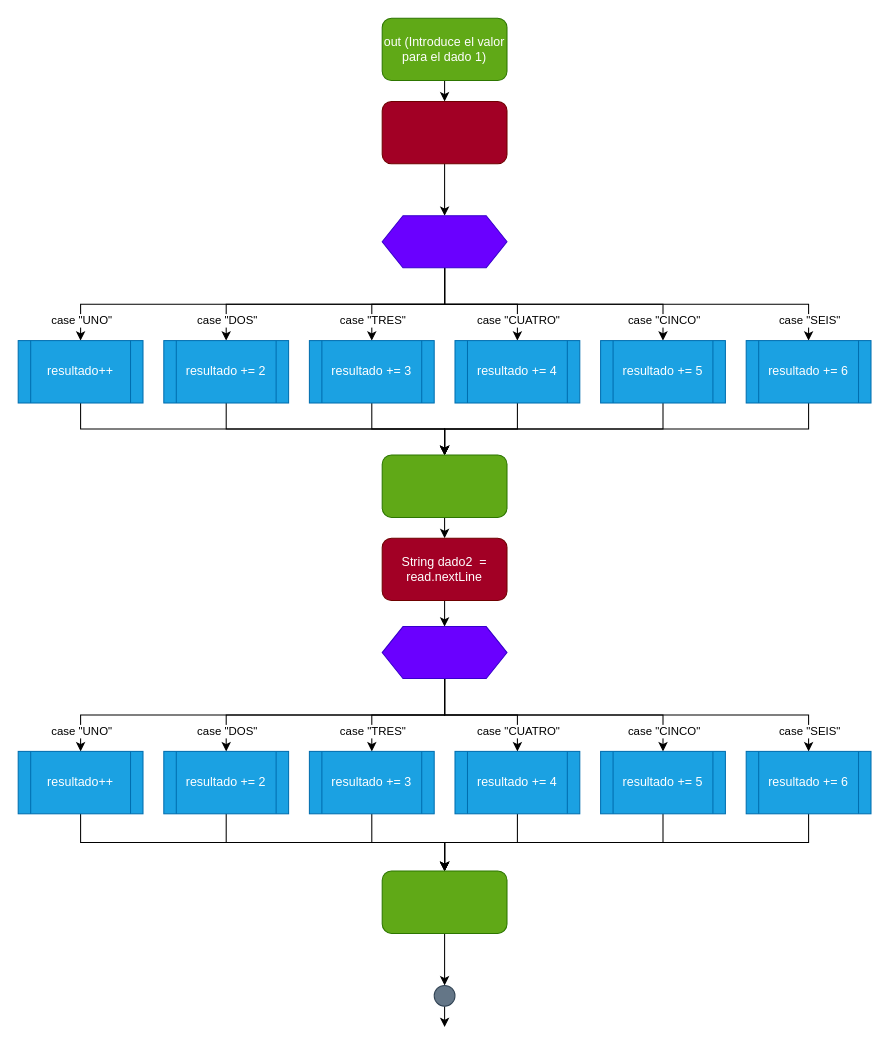
Some shapes in this 889 by 1054 pixel diagram are drawn without their labels. The shapes that lost their labels are listed below. From the top down, each one's box as (x1, y1, x2, y2) in pixels, then its label:
(381, 100, 507, 164): String dado1 = read.nextLine
(381, 215, 507, 268): switch dado1
(381, 454, 507, 517): out (Introduce el valor para el dado 2)
(381, 626, 507, 679): switch dado2
(381, 870, 507, 933): out (dado1 + dado2 "=" resultado)
